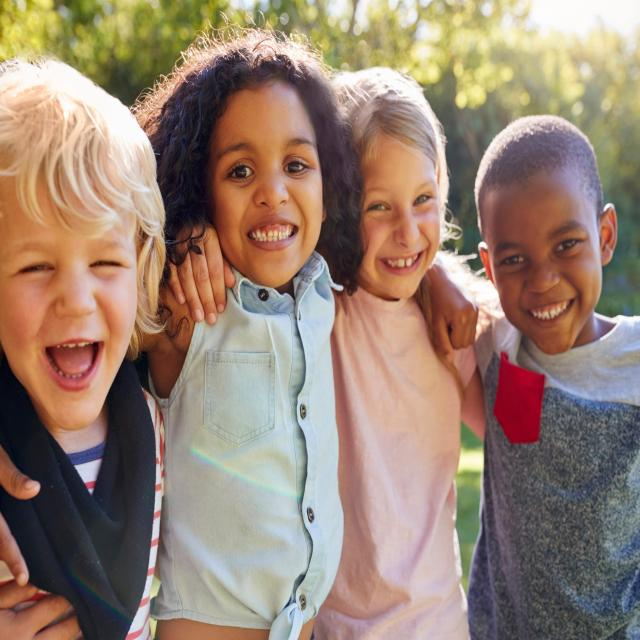child: (138, 30, 356, 640), (0, 57, 168, 640), (466, 116, 639, 640), (328, 62, 473, 640)
